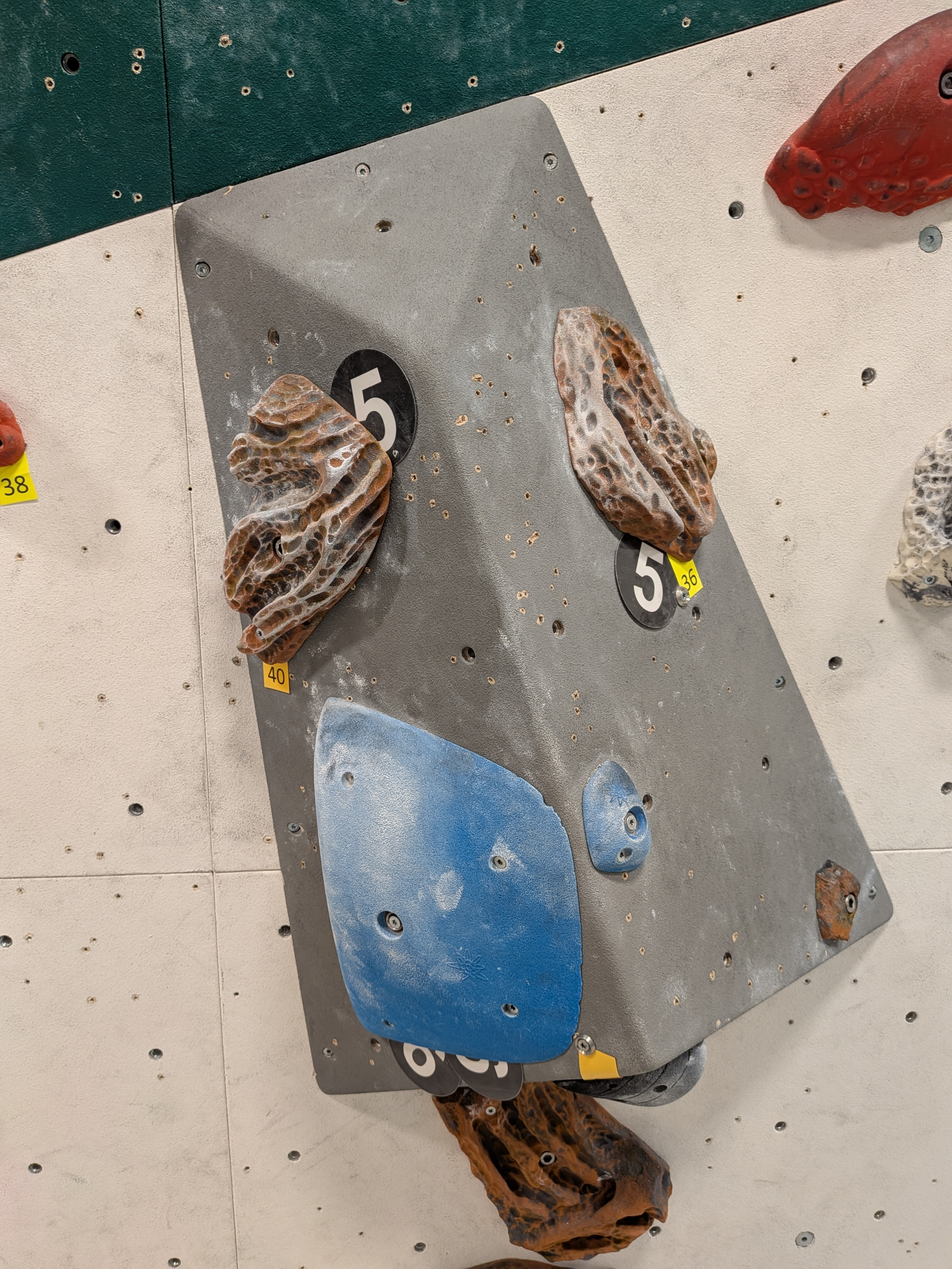hold: (315, 702, 582, 1061), (222, 376, 391, 656), (434, 1082, 671, 1261), (555, 308, 719, 557), (769, 10, 952, 217), (889, 426, 952, 605), (555, 1042, 705, 1106), (584, 761, 651, 874), (816, 860, 860, 941), (0, 403, 21, 465)
volume: (175, 100, 898, 1094)
